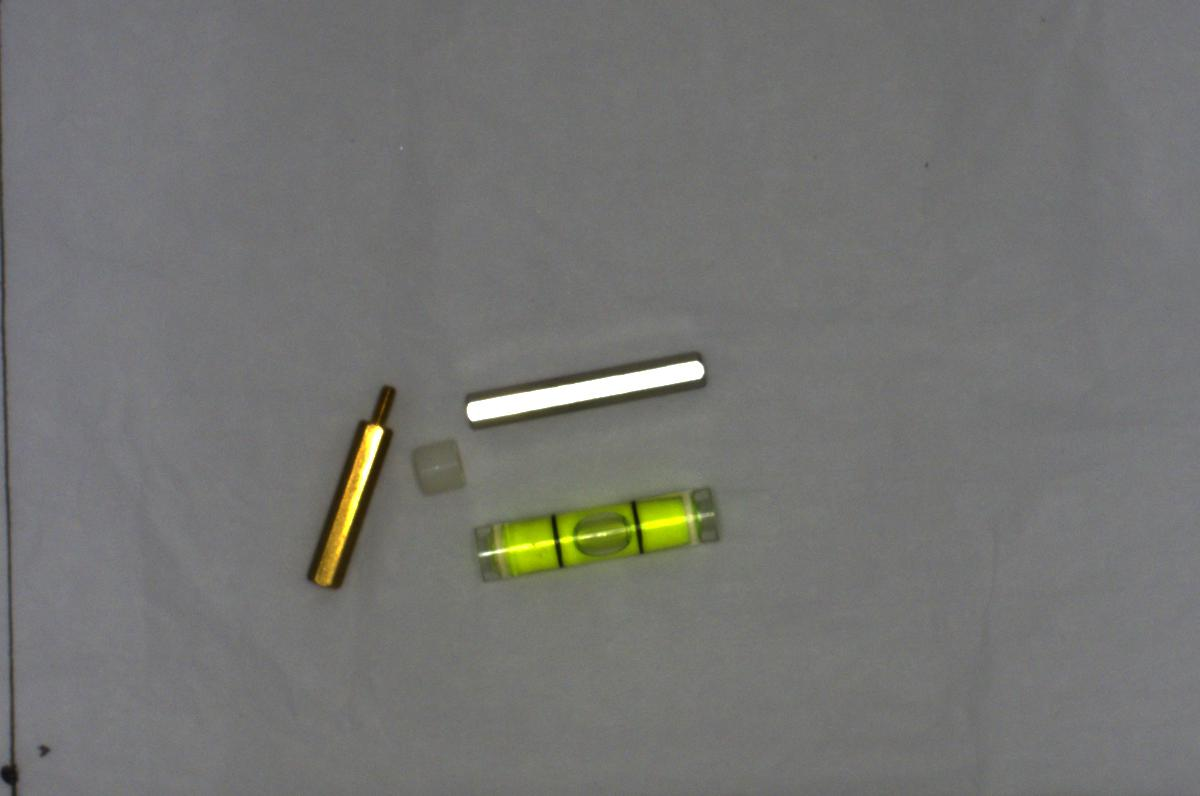Hexagon pillar: (294, 373, 400, 600)
Hexagonal steel column: (457, 336, 719, 436)
Horizontal bubble: (455, 476, 737, 589)
Plastic cushion pillar: (402, 428, 472, 508)
